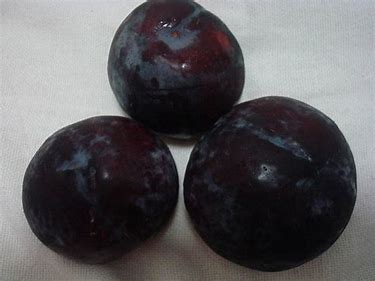plum_A: (184, 97, 357, 272)
plum_B: (22, 116, 180, 264), (107, 1, 245, 141)
